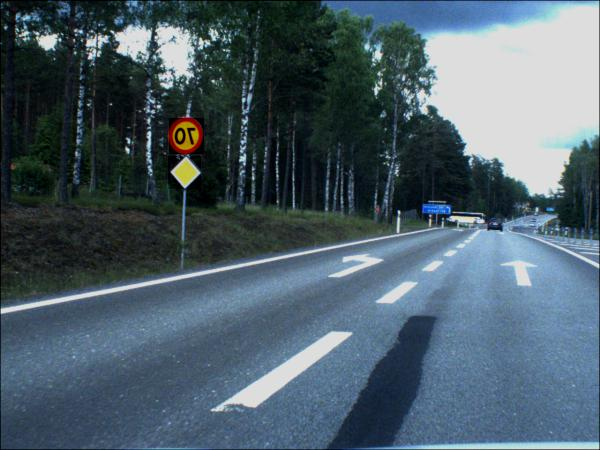70_SIGN: (169, 119, 205, 156)
PRIORITY_ROAD: (168, 158, 202, 192)
